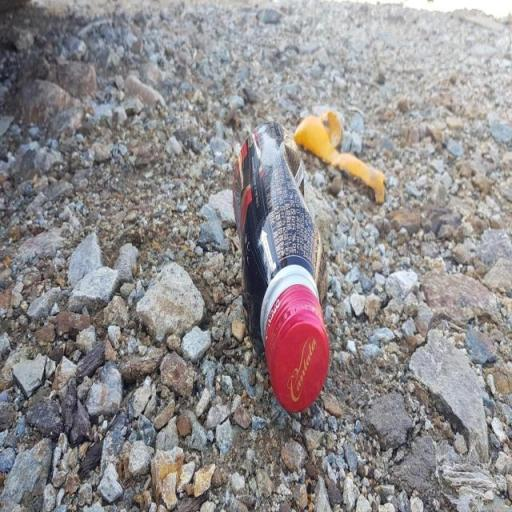metal: (230, 63, 362, 426)
